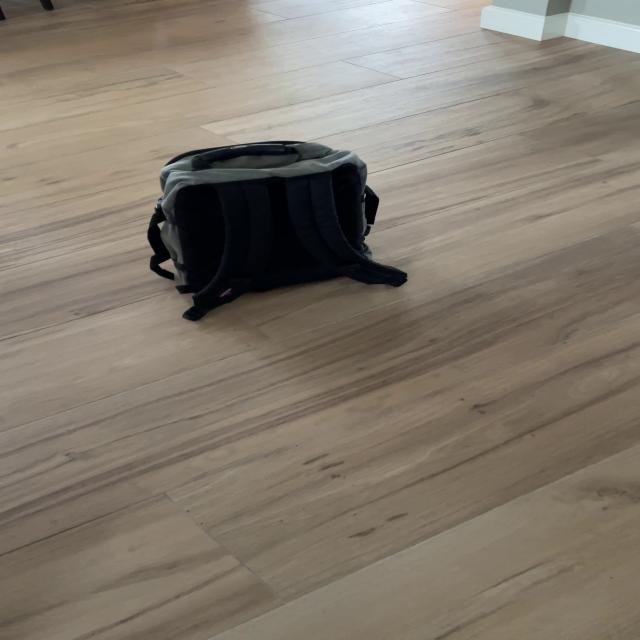backpack: (132, 130, 398, 322)
